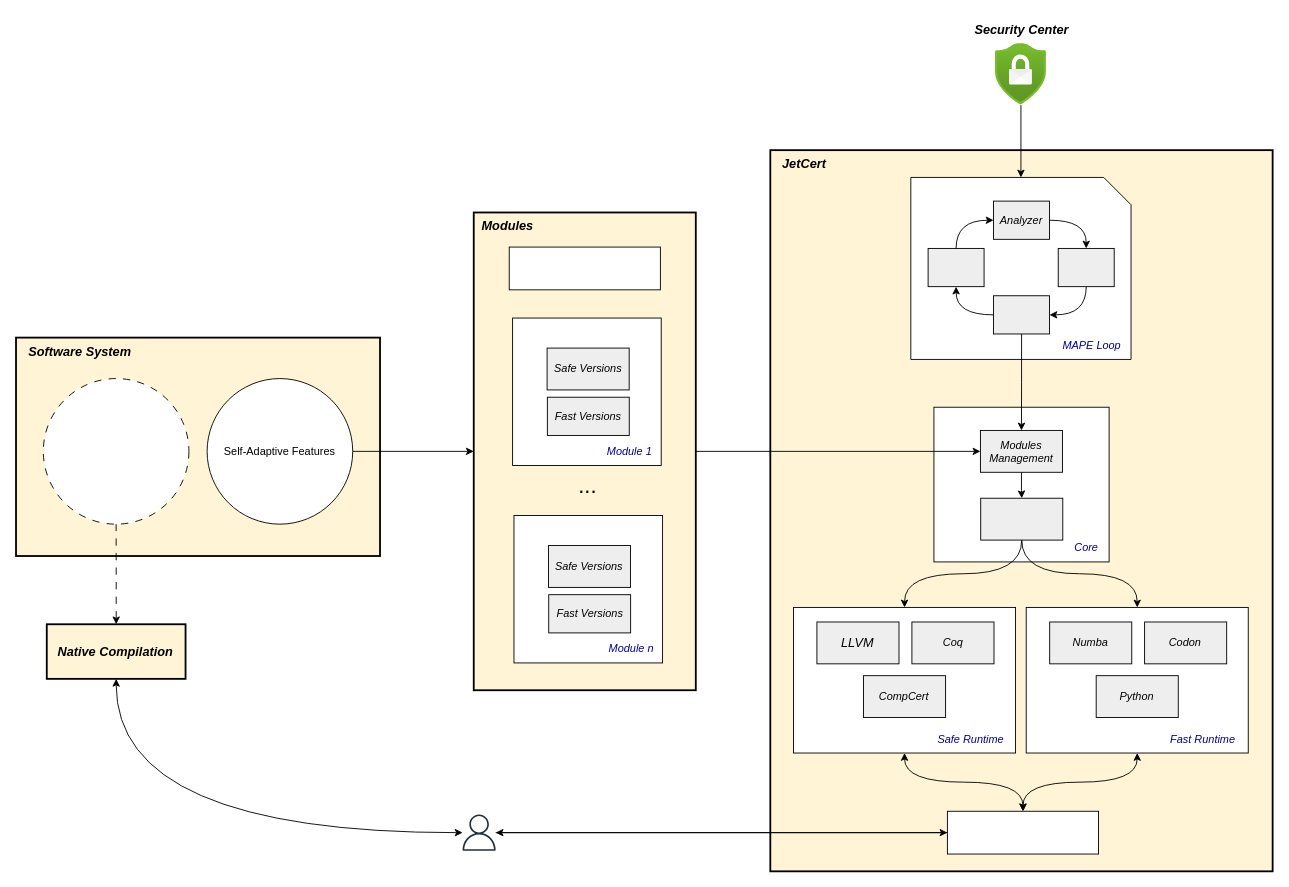
Image size: 1289x887. Some labels were removed from this diagram. The centre of each missing label's shape, as x and y in pixels:
"Builder" belongs at pixel 1021 518.
"Event Handler" belongs at pixel 1022 832.
"Executor" belongs at pixel 1021 314.
"MAPE Rules" belongs at pixel 584 268.
"Monitor" belongs at pixel 955 267.
"Normal Features" belongs at pixel 115 451.
"Planner" belongs at pixel 1085 267.
